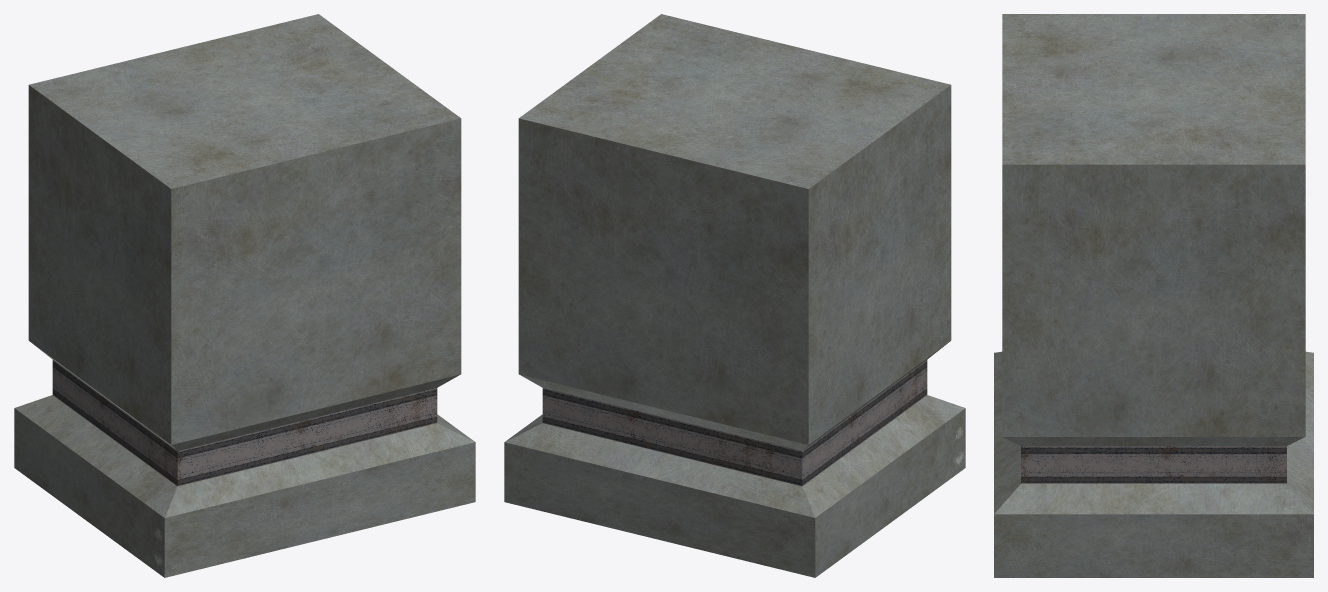
File: Ob_ScafEndLarge_RC.fbx
3 views of the same model, side by side, from view 1: azimuth 30°, elevation 25°; view 2: azimuth 150°, elevation 25°; view 3: azimuth 270°, elevation 25° (orthographic). The views are drawn at different scales.
Visible parts, largest first — view 1: Ob_ScafEndLarge_RC; view 2: Ob_ScafEndLarge_RC; view 3: Ob_ScafEndLarge_RC.
Part boxes in pixels (<box>): Ob_ScafEndLarge_RC: <box>14,14,475,577</box>; Ob_ScafEndLarge_RC: <box>504,14,965,577</box>; Ob_ScafEndLarge_RC: <box>994,14,1313,577</box>.
Bounding box in the file's own units: 624 × 736 × 523.
